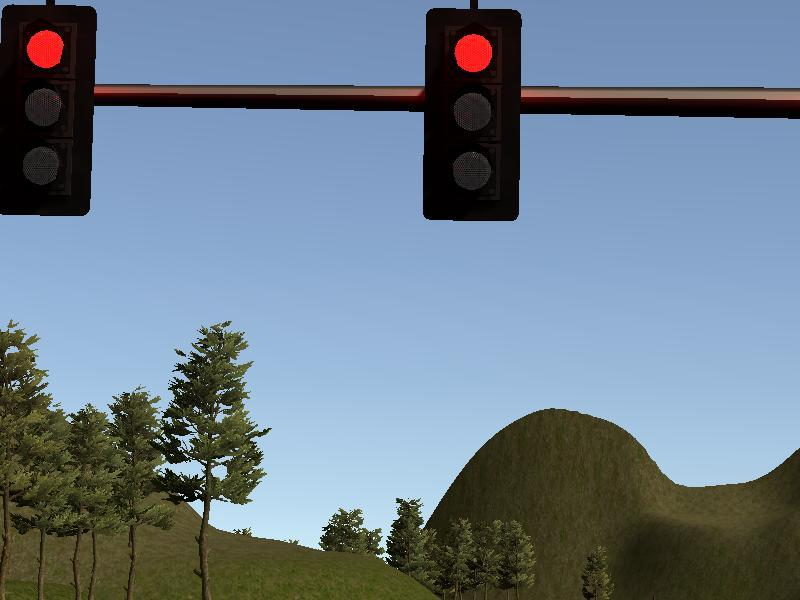Red: (427, 6, 517, 221), (4, 9, 95, 214)
